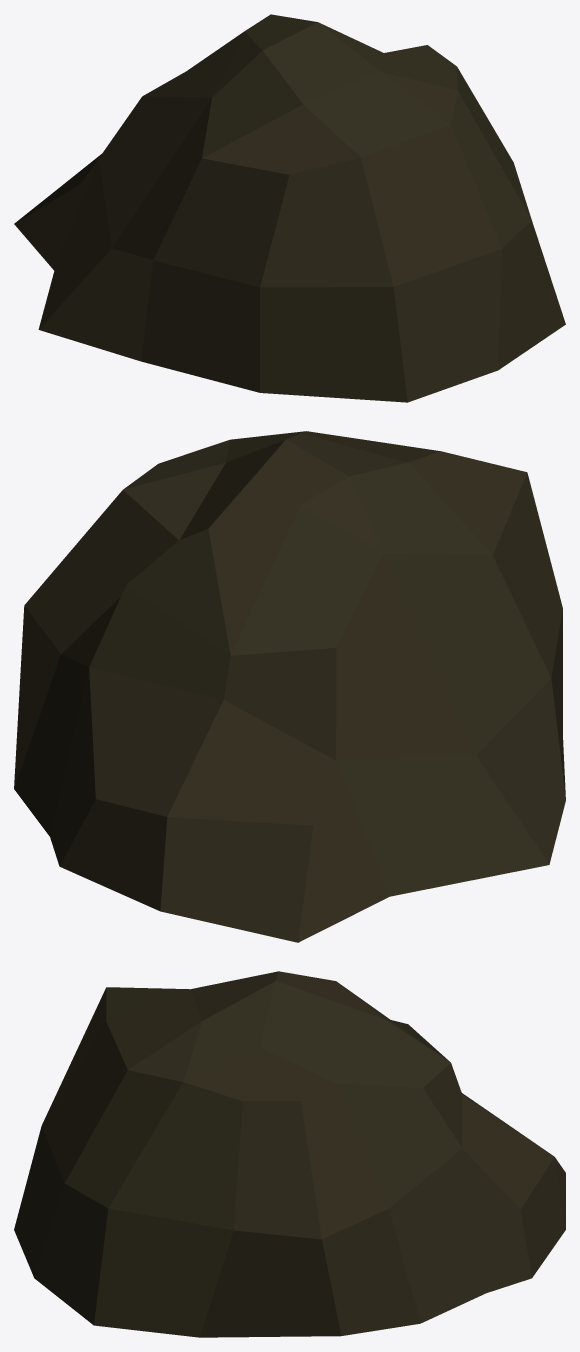
File: Rock.fbx
3 views of the same model, one above another, from view 1: azimuth 30°, elevation 25°; view 2: azimuth 150°, elevation 25°; view 3: azimuth 270°, elevation 25° (orthographic). The views are drawn at different scales.
Visible parts, largest first — view 1: Cube; view 2: Cube; view 3: Cube.
Part boxes in pixels (x1,y1,x2,y2): Cube: (14,14,565,402); Cube: (14,431,565,942); Cube: (14,971,565,1337).
Size of the model in its own units: 439 by 259 by 480.
